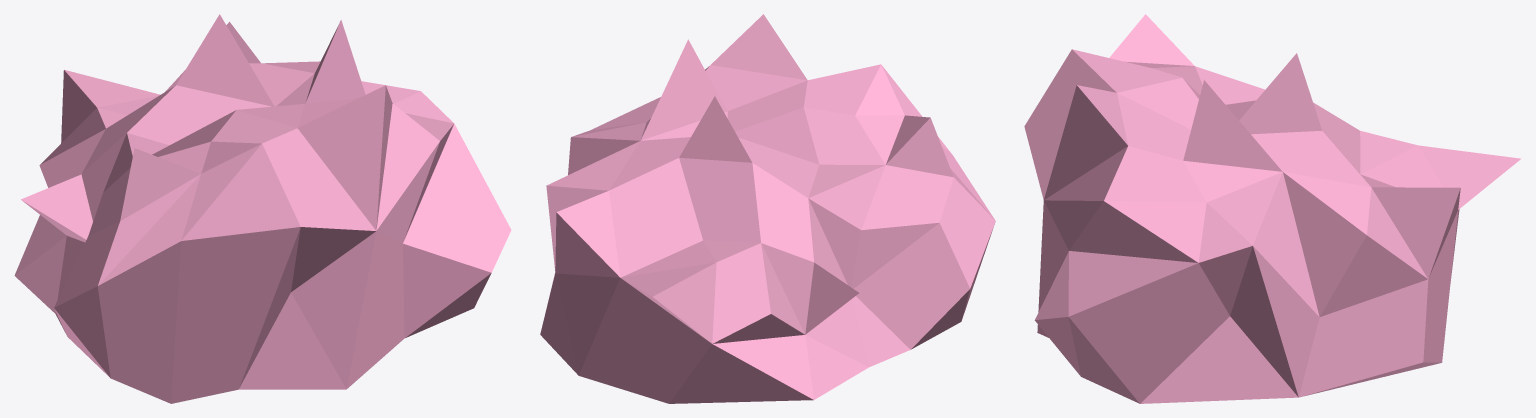
Rendered from ore01.fbx.
3 views of the same model, side by side, from view 1: azimuth 30°, elevation 25°; view 2: azimuth 150°, elevation 25°; view 3: azimuth 270°, elevation 25° (orthographic). The views are drawn at different scales.
Parts seen in each view (by area): view 1: elysium; view 2: elysium; view 3: elysium.
Boxes of the visible parts, bbox=[...] form: elysium: bbox=[14, 14, 511, 403]; elysium: bbox=[540, 14, 995, 403]; elysium: bbox=[1024, 14, 1521, 403].
Bounding box in the file's own units: 3.09 × 3.25 × 2.15.
